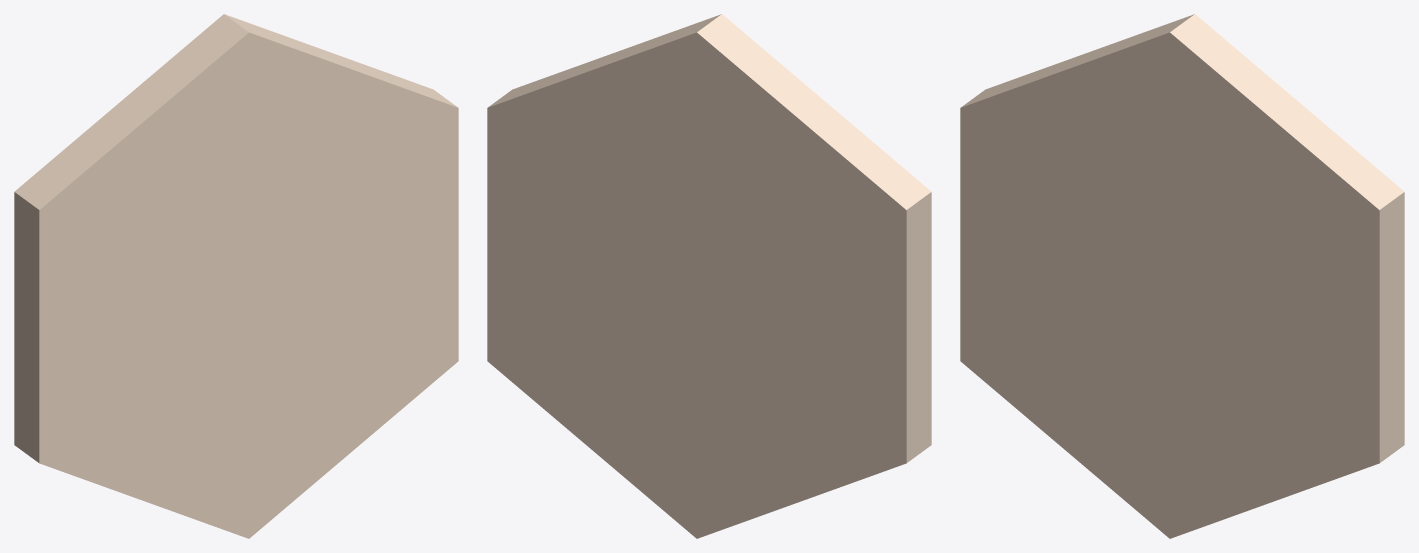
The model's file is badge_chef_hat.glb.
3 renders of one model, left to right at view 1: azimuth 30°, elevation 25°; view 2: azimuth 150°, elevation 25°; view 3: azimuth 330°, elevation 25°, orthographic.
Parts seen in each view (by area): view 1: badge; view 2: badge; view 3: badge.
Part boxes in pixels (<box>): badge: <box>14,14,458,538</box>; badge: <box>487,14,931,538</box>; badge: <box>960,14,1404,538</box>.
Size of the model in its own units: 1.73 by 2 by 0.18.
